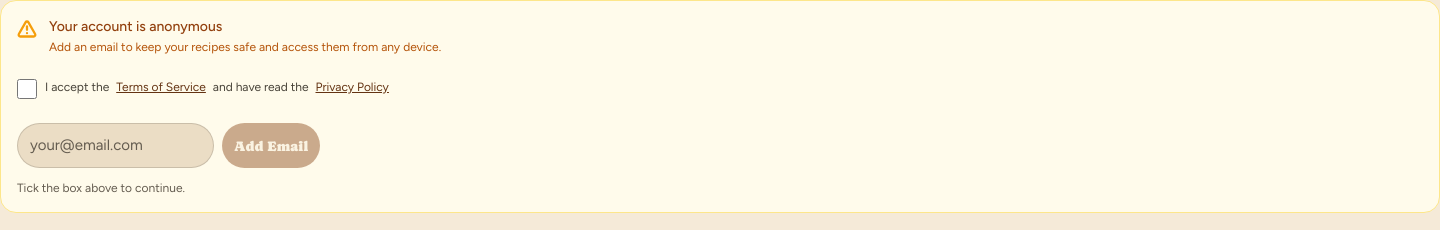
Test: EmailLinkingForm (warning, anonymous user) › explains the disabled button with a hint tied to the button and the box
Type " A@Example.com" into the field with placeholder "your@email.com" at (116, 146), box [17, 123, 214, 168]
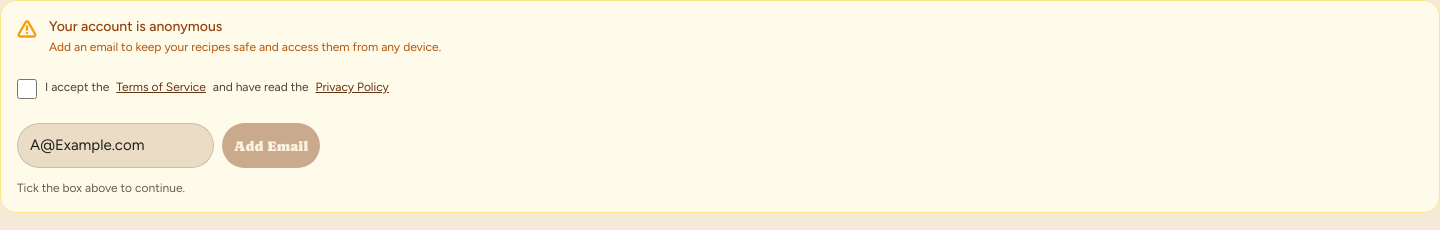
Click the checkbox labelled "I accept the Terms of Service and have read the Privacy Policy" at (27, 89), box [17, 79, 37, 99]
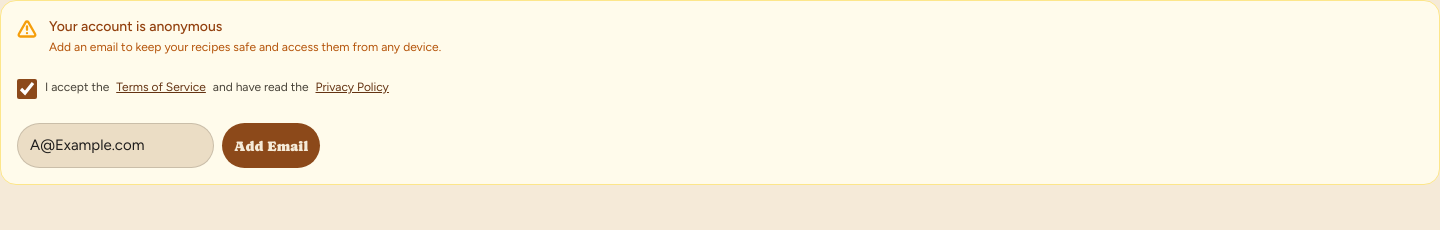
Now the text "Tick the box above to continue." is gone
